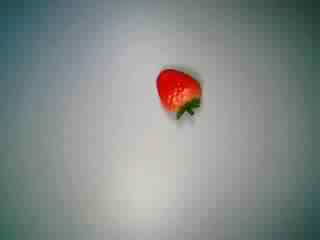strawberry: (147, 62, 209, 121)
